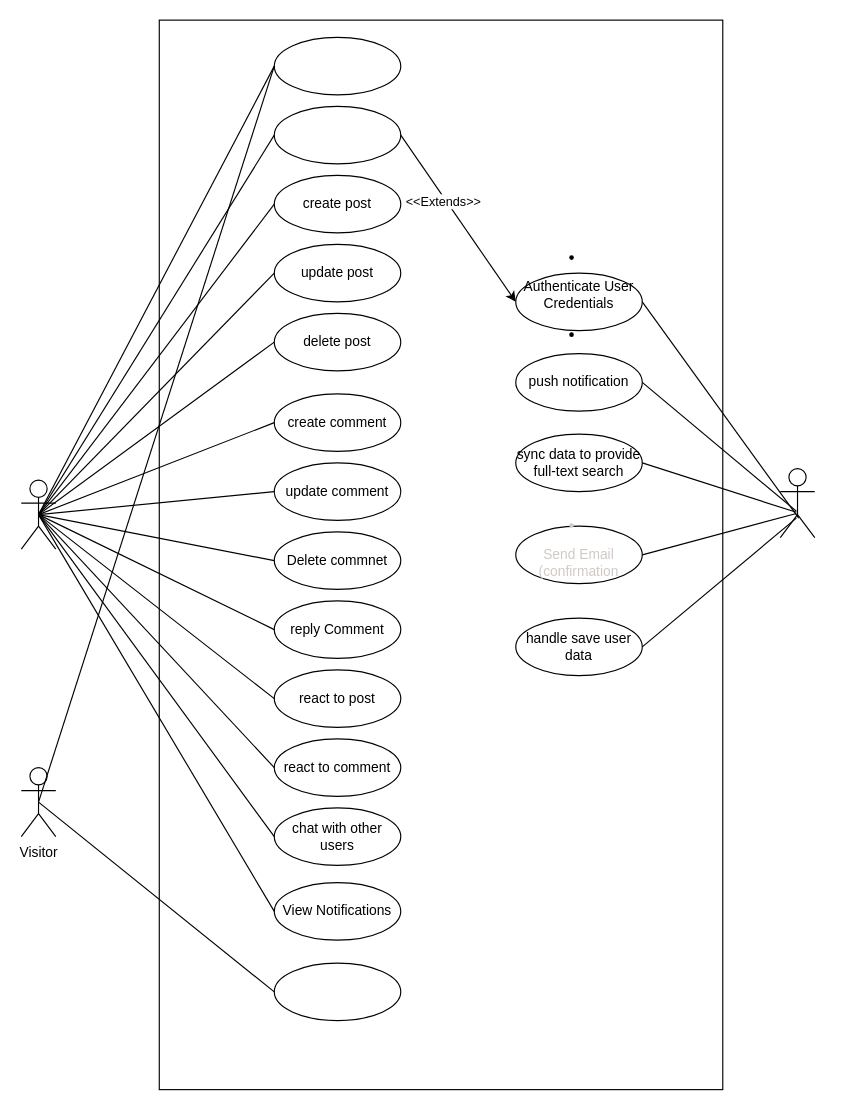
Image size: 841x1110. Some labels were removed from this diagram. Here are the shapes that lost their labels. From the top down, the centre of each, then its label:
At point 337,65: "register".
At point 337,134: "login".
At point 38,514: "User".
At point 797,502: "System".
At point 337,991: "View Feed".
